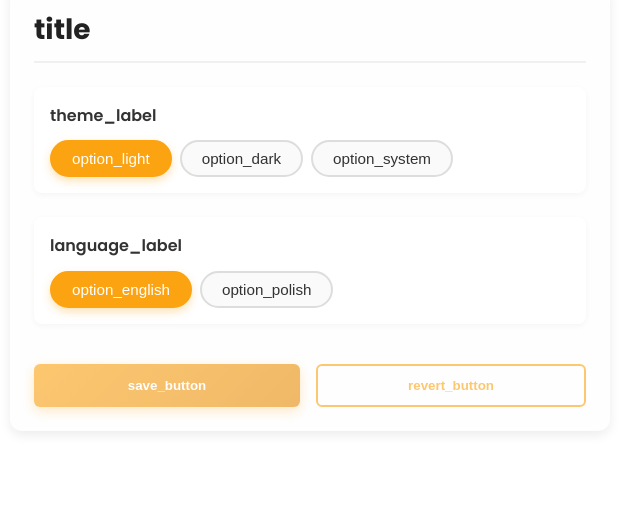
Test: <InterfaceSettings /> › reverts to stored values when clicking Revert
Click the button "option_dark".
click(241, 159)  # box [180,140,303,177]
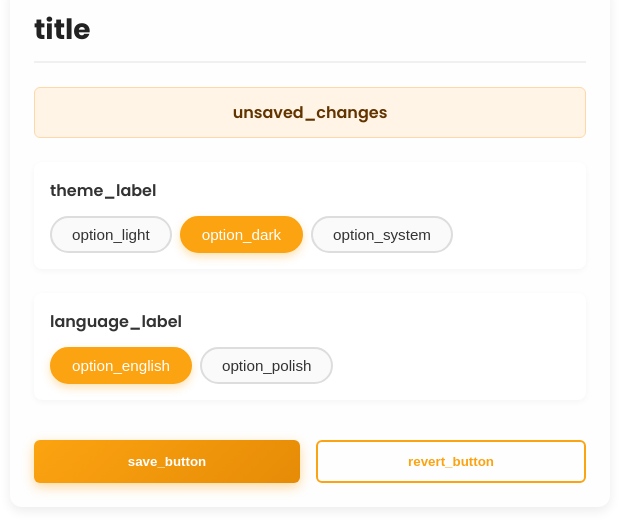
Click the button "revert_button".
click(451, 461)  # box [316,440,586,483]
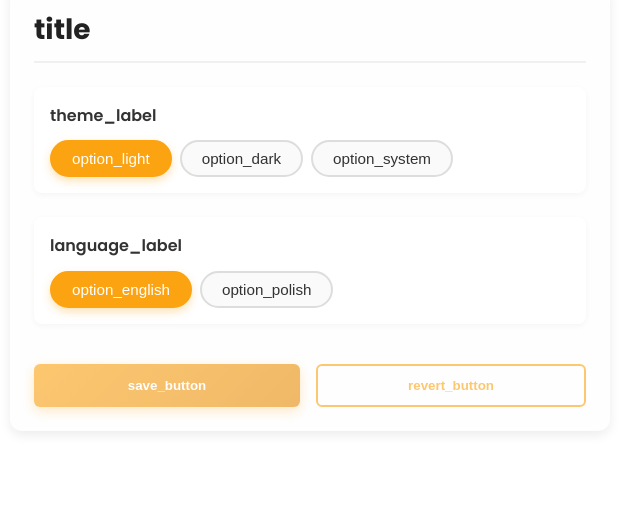
Expected: the text "unsaved_changes" is gone
Expected: the button "save_button" is disabled, [34,364,300,407]
Expected: the button "revert_button" is disabled, [316,364,586,407]
